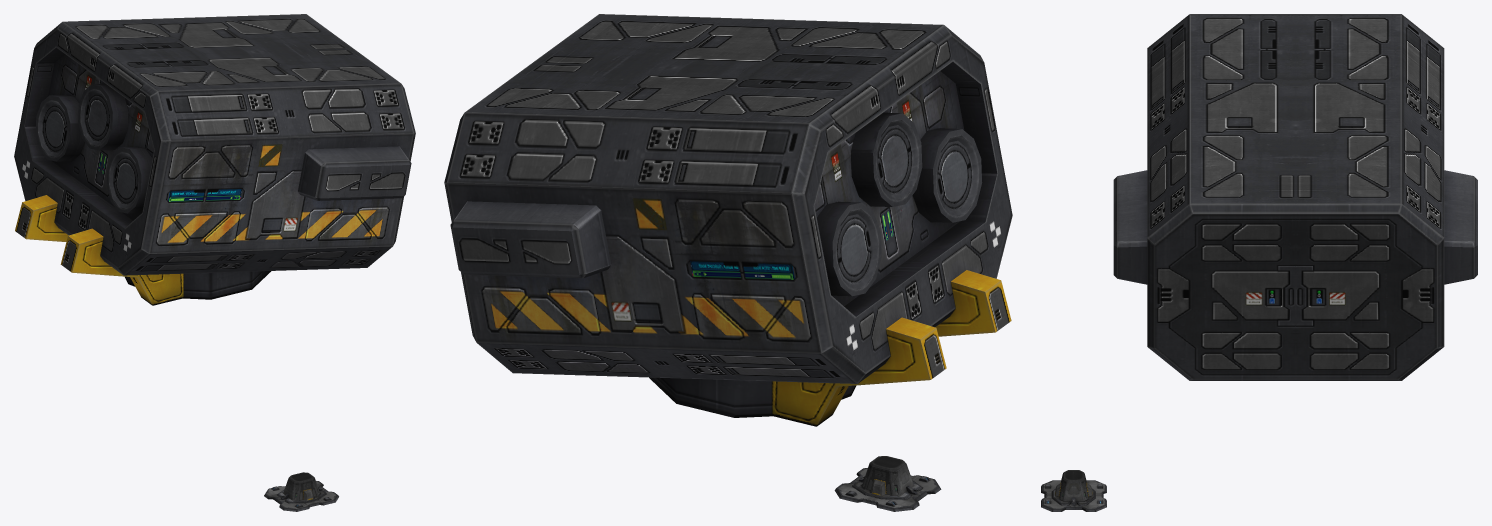
File: turret.fbx
The picture shows the model from 3 angles, left to right: view 1: azimuth 30°, elevation 25°; view 2: azimuth 150°, elevation 25°; view 3: azimuth 270°, elevation 25°; orthographic projection. The views are drawn at different scales.
Parts seen in each view (by area): view 1: Tower_Rocket Launcher-R, Tower_Rocket Launcher; view 2: Tower_Rocket Launcher-R, Tower_Rocket Launcher; view 3: Tower_Rocket Launcher-R, Tower_Rocket Launcher.
Part boxes in pixels (x1=…): Tower_Rocket Launcher-R: x1=14, y1=14, x2=415, y2=305; Tower_Rocket Launcher: x1=264, y1=472, x2=338, y2=511; Tower_Rocket Launcher-R: x1=444, y1=14, x2=1012, y2=426; Tower_Rocket Launcher: x1=834, y1=456, x2=941, y2=511; Tower_Rocket Launcher-R: x1=1113, y1=14, x2=1477, y2=380; Tower_Rocket Launcher: x1=1041, y1=470, x2=1106, y2=511.
Size of the model in its own units: 647 by 764 by 699.
1 material, 1 textured.
